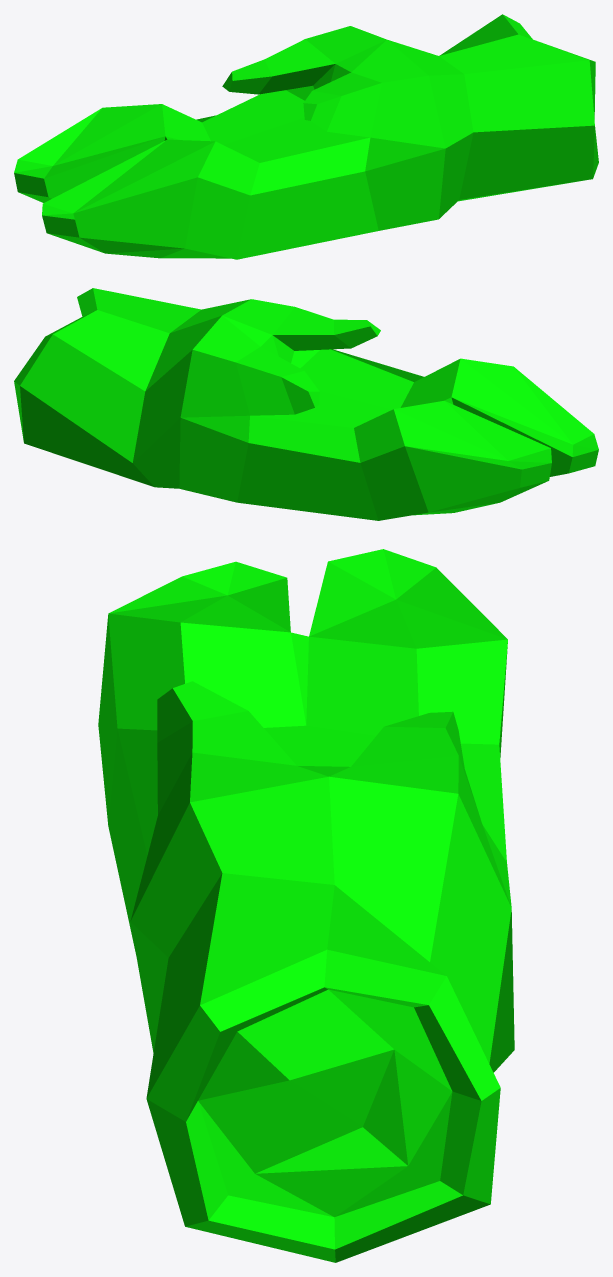
Rendered from SM_Trotter_Pork.fbx.
3 renders of one model, top to bottom at view 1: azimuth 30°, elevation 25°; view 2: azimuth 150°, elevation 25°; view 3: azimuth 270°, elevation 25°, orthographic. The views are drawn at different scales.
Visible parts, largest first — view 1: trotter-pork; view 2: trotter-pork; view 3: trotter-pork.
Boxes of the visible parts, left/top/right/bottom form: trotter-pork: left=14, top=14, right=598, bottom=259; trotter-pork: left=14, top=288, right=598, bottom=520; trotter-pork: left=98, top=549, right=514, bottom=1262.
Bounding box in the file's own units: 0.3489 × 0.1052 × 0.1186.
